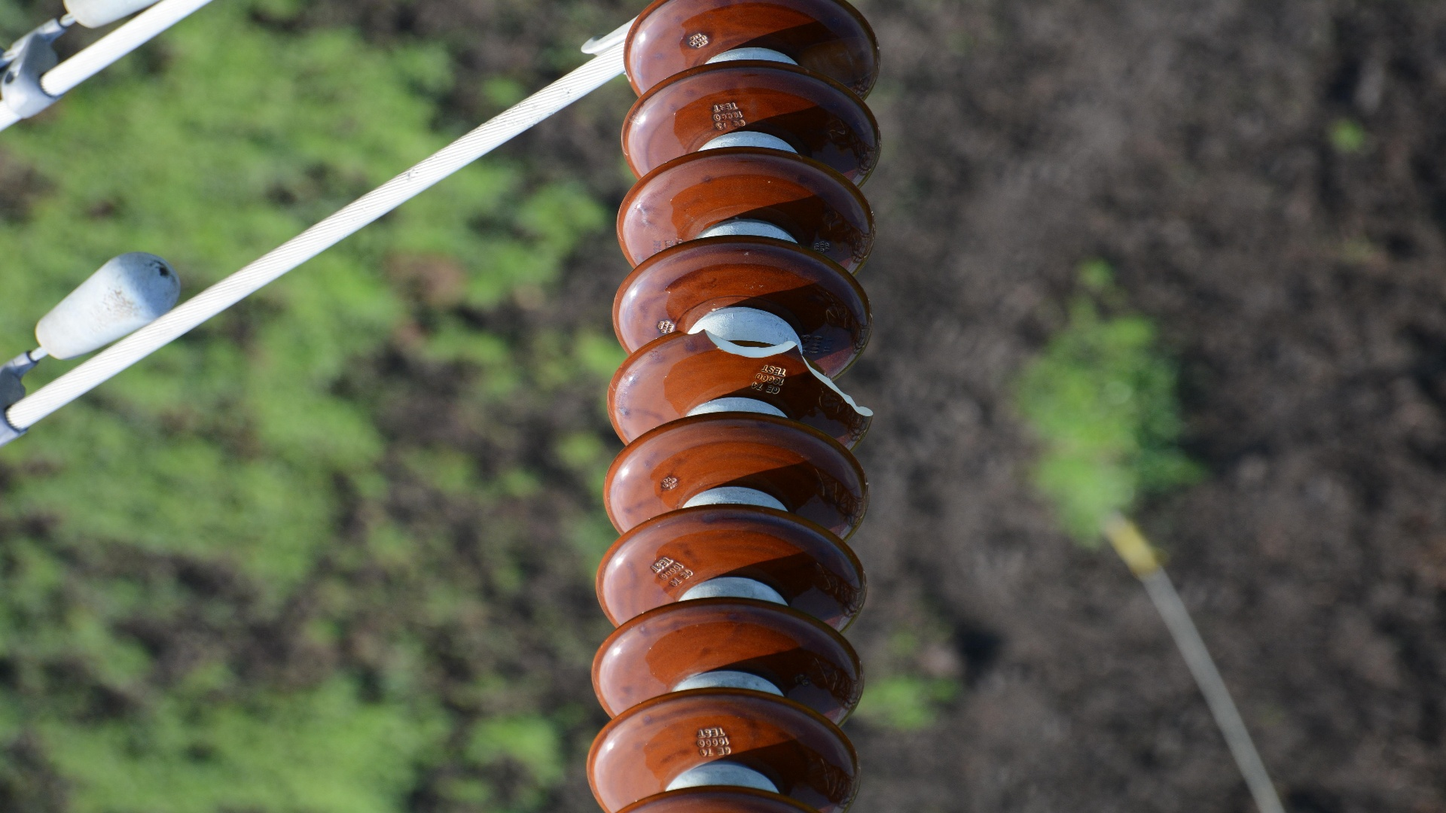insulator: (578, 1, 887, 812)
insulator_breakage: (654, 315, 879, 434)
